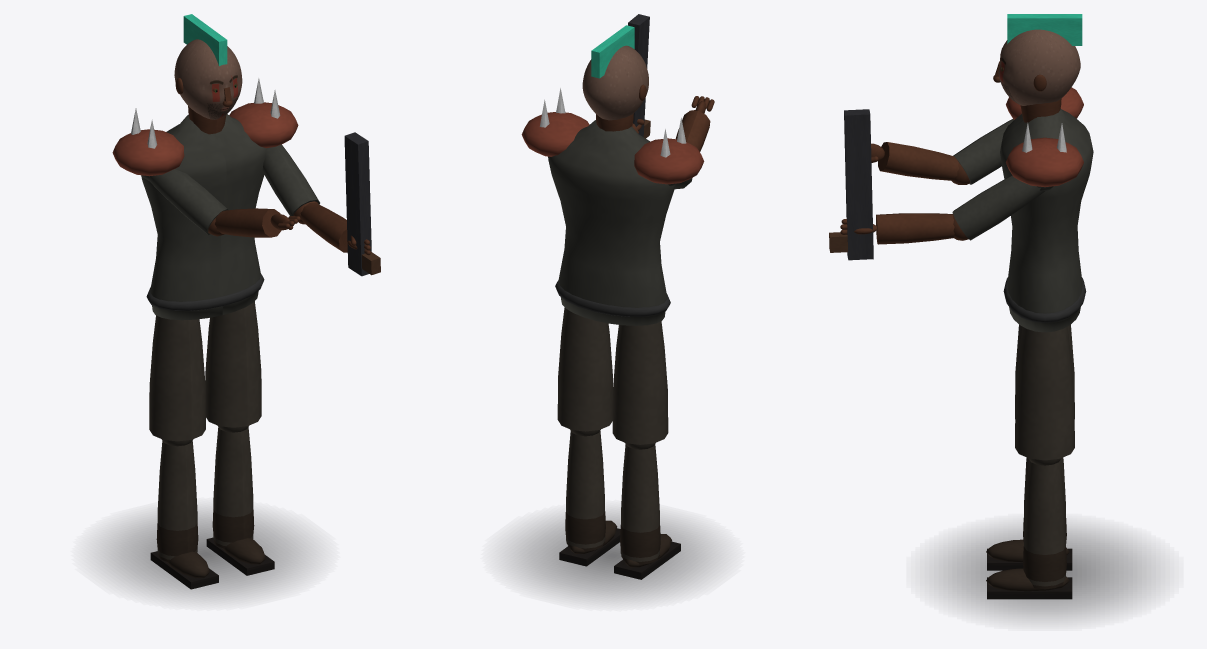
Rendered from enemy_raider.glb.
3 renders of one model, left to right at view 1: azimuth 30°, elevation 25°; view 2: azimuth 150°, elevation 25°; view 3: azimuth 270°, elevation 25°, orthographic. The views are drawn at different scales.
Parts seen in each view (by area): view 1: chest, object 11, legL, legR, shinL, shinR, foreR, head, armL, armR, foreL; view 2: chest, object 11, legL, legR, shinL, shinR, head, foreL, foreR; view 3: chest, object 11, legR, foreR, shinR, head, armR, foreL, armL, shinL.
Part boxes in pixels (bbox=[...]): chest: bbox=[112, 78, 298, 320]; object 11: bbox=[98, 509, 312, 599]; legL: bbox=[149, 315, 205, 441]; legR: bbox=[205, 301, 261, 427]; shinL: bbox=[150, 439, 218, 589]; shinR: bbox=[206, 425, 274, 575]; foreR: bbox=[293, 132, 380, 276]; head: bbox=[174, 14, 242, 119]; armL: bbox=[141, 169, 228, 234]; armR: bbox=[262, 144, 319, 215]; foreL: bbox=[208, 208, 300, 237]; chest: bbox=[521, 88, 704, 325]; object 11: bbox=[508, 511, 718, 599]; legL: bbox=[612, 321, 668, 444]; legR: bbox=[557, 307, 612, 431]; shinL: bbox=[614, 443, 680, 579]; shinR: bbox=[559, 429, 620, 566]; head: bbox=[582, 25, 648, 120]; foreL: bbox=[675, 96, 714, 151]; foreR: bbox=[628, 14, 650, 138]; chest: bbox=[1000, 87, 1093, 332]; object 11: bbox=[934, 526, 1155, 619]; legR: bbox=[1015, 326, 1074, 460]; foreR: bbox=[829, 109, 968, 260]; shinR: bbox=[986, 458, 1072, 599]; head: bbox=[993, 14, 1082, 105]; armR: bbox=[952, 175, 1053, 240]; foreL: bbox=[871, 142, 970, 184]; armL: bbox=[953, 119, 1013, 184]; shinL: bbox=[986, 457, 1072, 570].
Size of the model in its own units: 0.868 by 1.82 by 1.07.
5 materials, 4 textured.
